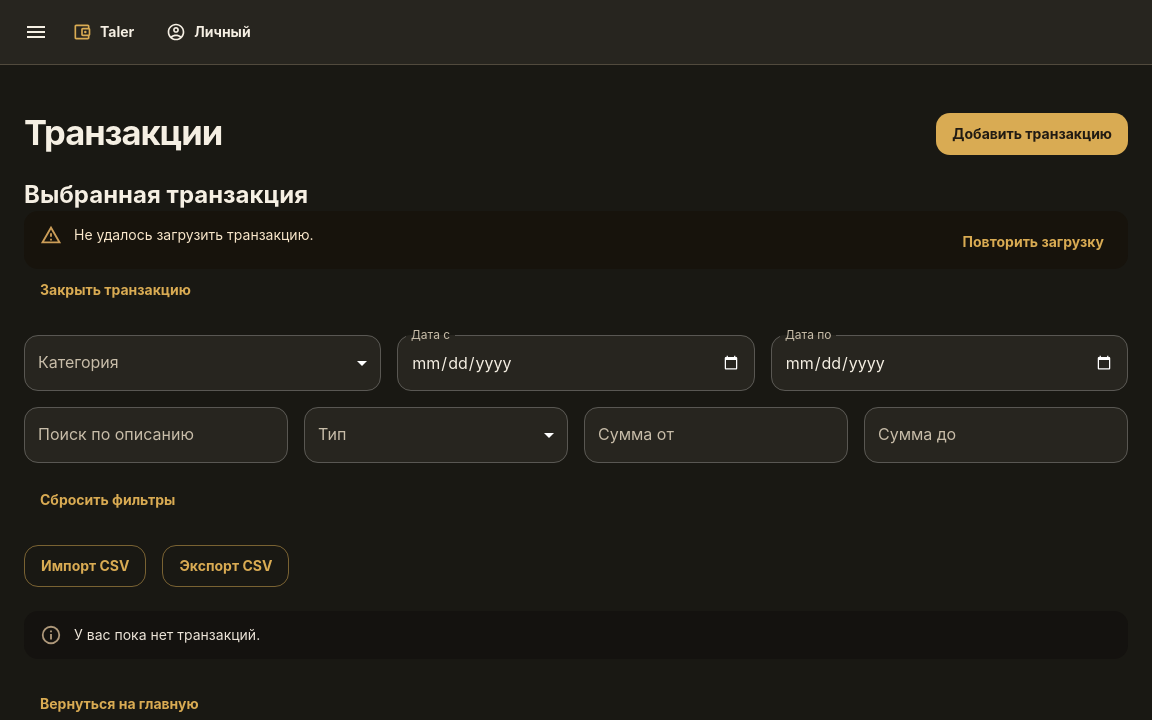
Scenario: TransactionsPage › retries a failed selected transaction request without claiming it was deleted
Expected: the text "Не удалось загрузить транзакцию." is shown, [74, 226, 314, 243]
Click the button "Повторить загрузку" at [1033, 242], box [947, 221, 1120, 263]
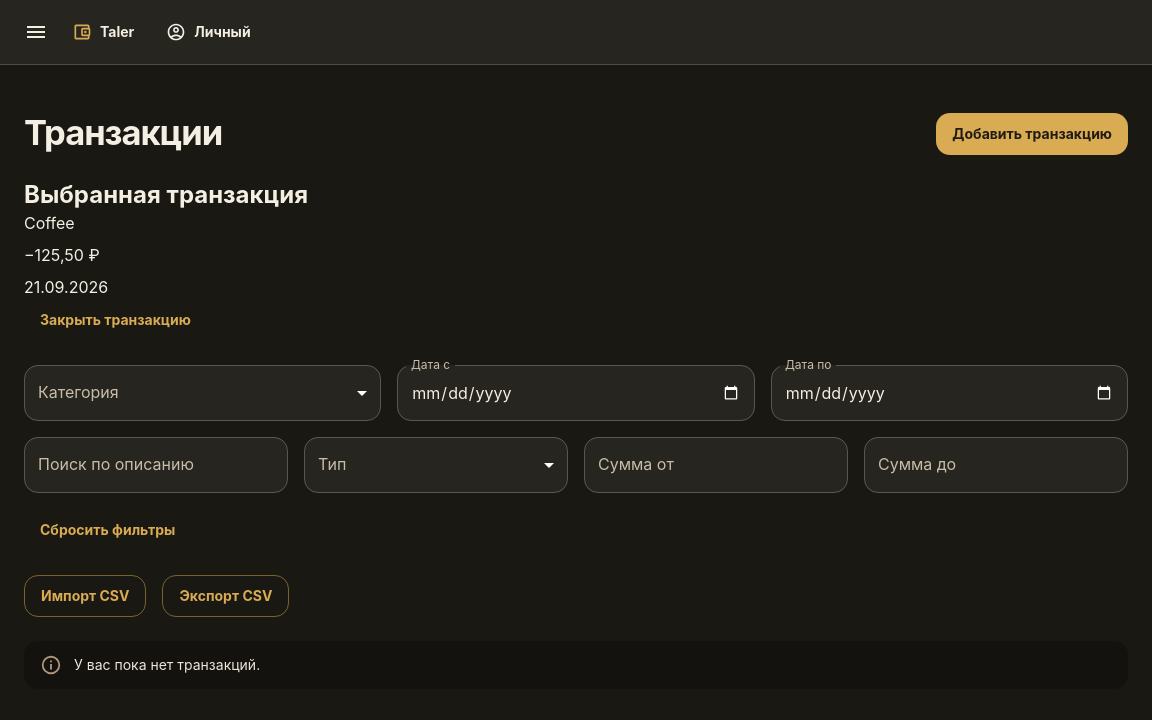
Now the text "Coffee" is shown, box [24, 213, 75, 233]
